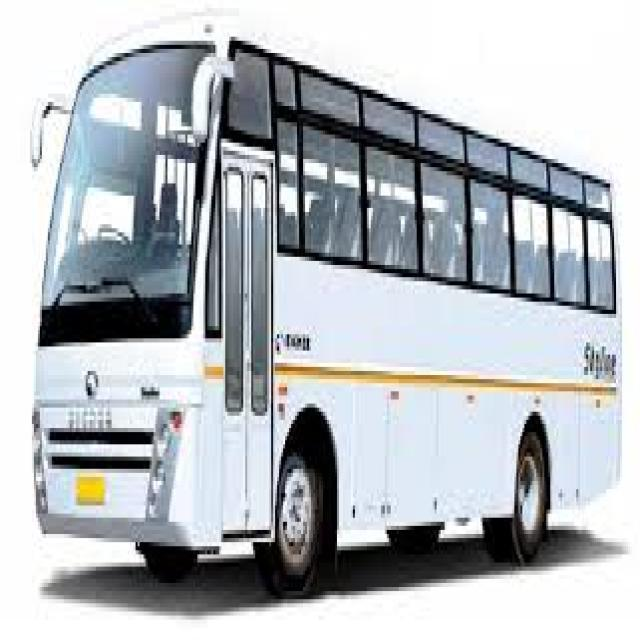bus_front: (1, 4, 630, 625)
